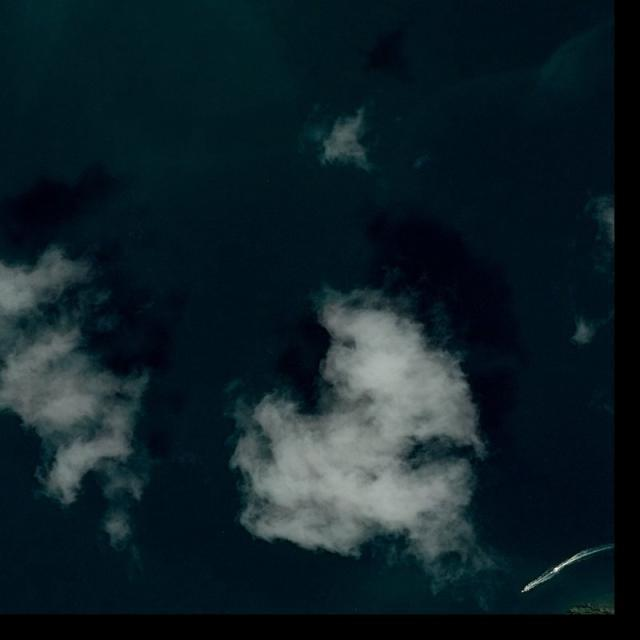ship: (550, 569, 557, 574), (521, 589, 527, 594)
